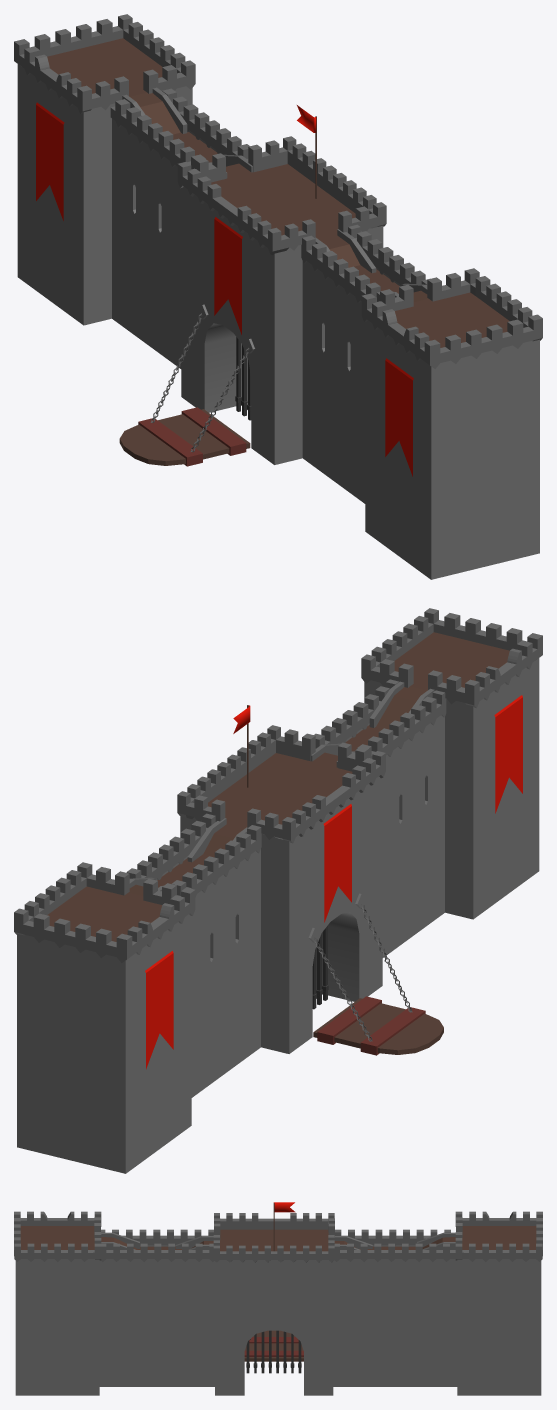
File: ZAMOOOOMK.fbx
The picture shows the model from 3 angles, top to bottom: view 1: azimuth 30°, elevation 25°; view 2: azimuth 150°, elevation 25°; view 3: azimuth 270°, elevation 25°; orthographic projection. The views are drawn at different scales.
Parts seen in each view (by area): view 1: Cube.015, Cube.011, Cube.046, Plane.085, Plane.001, Plane.012, Plane.002, Cube.022, Plane.022, Plane.077, Plane.020, Plane.084 (+16 smaller); view 2: Cube.046, Cube.011, Cube.015, Plane.085, Plane.001, Plane.012, Plane.002, Cube.022, Plane.077, Plane.022, Plane.079, Plane.084 (+16 smaller); view 3: Plane.085, Plane.001, Cube.011, Cube.015, Cube.046, Plane.002, Plane.012, Plane.027, Plane.017, Plane.022, Plane.077, Plane.030 (+8 smaller).
Part boxes in pixels (x1,y1,x2,y2): Cube.015: [365, 292, 539, 579]; Cube.011: [181, 164, 383, 464]; Cube.046: [17, 38, 192, 325]; Plane.085: [112, 118, 217, 368]; Plane.001: [302, 261, 400, 503]; Plane.012: [248, 136, 386, 232]; Plane.002: [177, 153, 315, 255]; Cube.022: [119, 409, 250, 465]; Plane.022: [427, 268, 542, 341]; Plane.077: [118, 14, 195, 93]; Plane.020: [424, 319, 534, 368]; Plane.084: [36, 102, 64, 220]; Cube.046: [17, 886, 191, 1173]; Cube.011: [180, 753, 382, 1053]; Cube.015: [364, 632, 539, 919]; Plane.085: [156, 849, 260, 1097]; Plane.001: [345, 715, 444, 957]; Plane.012: [177, 725, 315, 821]; Plane.002: [247, 742, 385, 843]; Cube.022: [313, 998, 443, 1054]; Plane.077: [14, 862, 129, 935]; Plane.022: [361, 608, 438, 687]; Plane.079: [22, 913, 132, 962]; Plane.084: [145, 951, 173, 1069]; Plane.085: [333, 1245, 457, 1386]; Plane.001: [99, 1245, 214, 1386]; Cube.011: [215, 1229, 333, 1395]; Cube.015: [15, 1226, 99, 1395]; Cube.046: [457, 1226, 541, 1395]; Plane.002: [214, 1213, 334, 1239]; Plane.012: [213, 1235, 334, 1262]; Plane.027: [334, 1243, 455, 1261]; Plane.017: [101, 1243, 214, 1261]; Plane.022: [14, 1232, 101, 1261]; Plane.077: [455, 1232, 542, 1261]; Plane.030: [246, 1330, 301, 1373].
Size of the model in its own units: 260 by 349 by 892.
